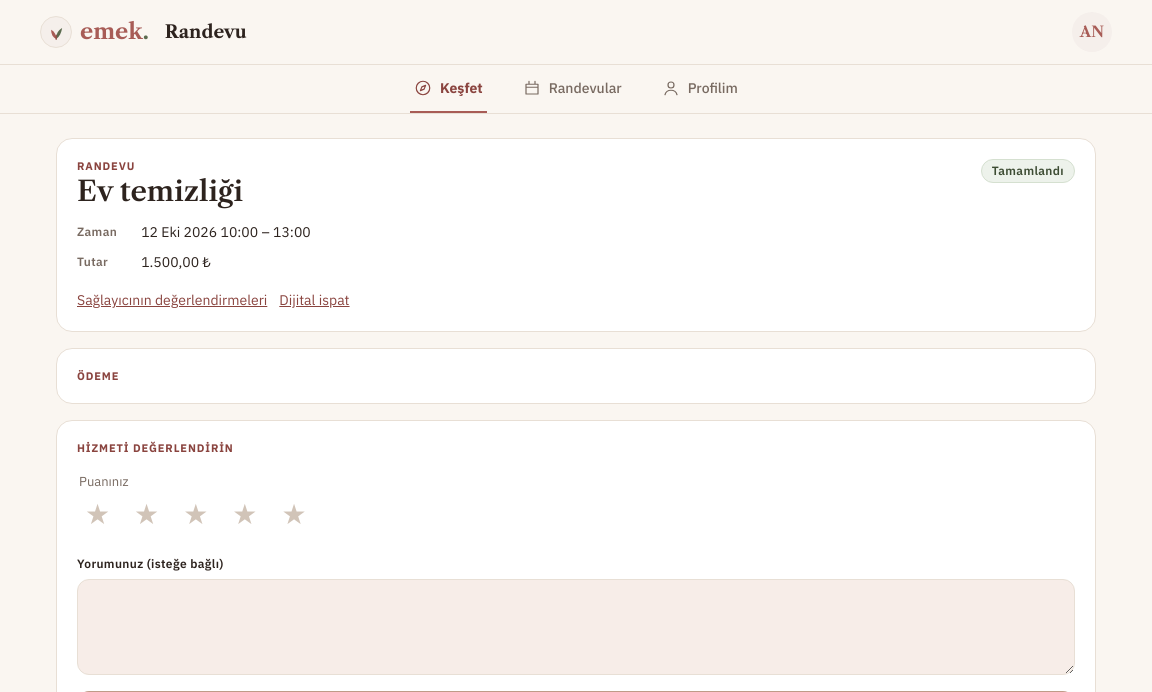
Test: Randevu detayı › COMPLETED: değerlendirme gönderir; zaten değerlendirildiyse teşekkür gösterir
Click the radio button named "4 yıldız": point(245, 515) [224, 493, 265, 537]
(page scrolled)
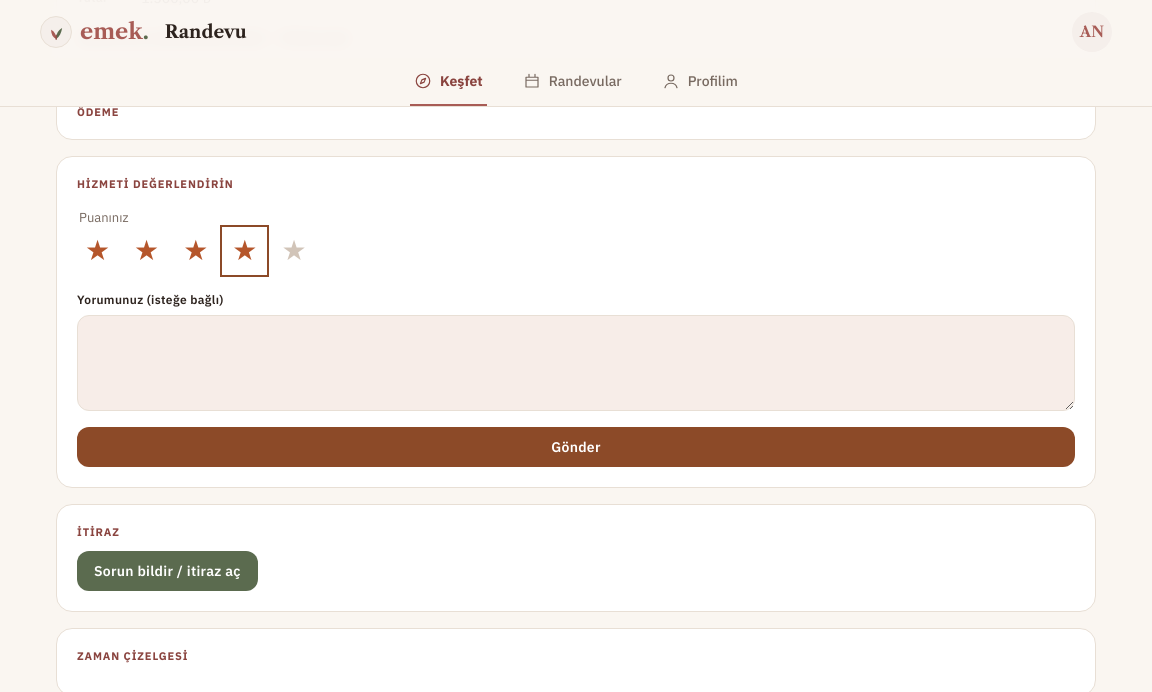
Click the button "Gönder": point(576, 447) [77, 427, 1075, 467]
(page scrolled)
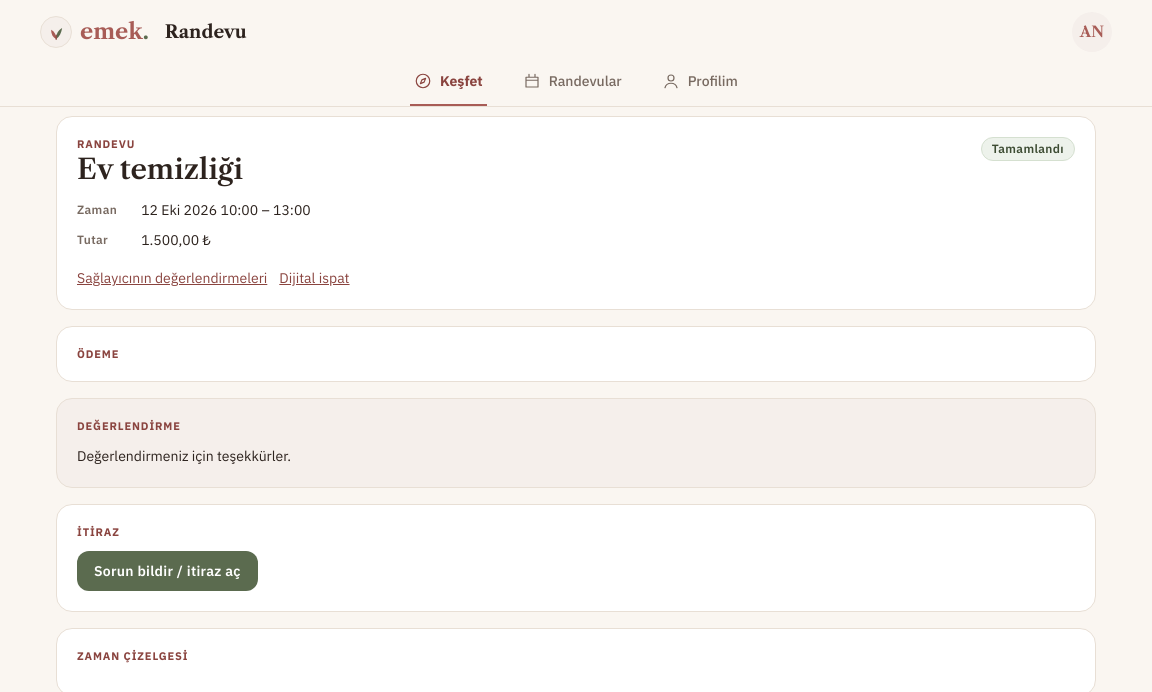
Check: the text "Değerlendirmeniz için teşekkürler." is shown, box [77, 447, 291, 465]
